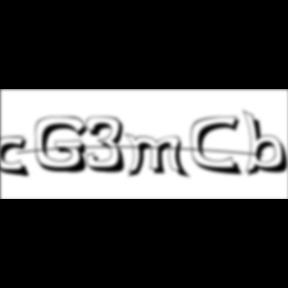3: (86, 116, 132, 176)
C: (190, 115, 246, 178)
G: (36, 116, 94, 176)
c: (0, 136, 34, 180)
m: (124, 132, 192, 181)
